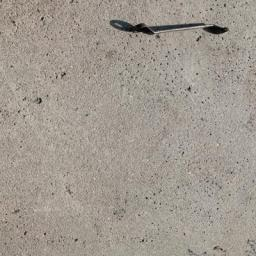FOD: (123, 19, 233, 37)
